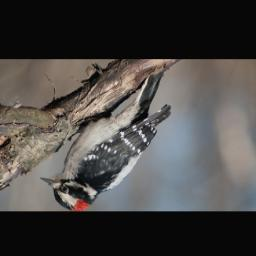Woodpecker: (36, 68, 172, 210)
